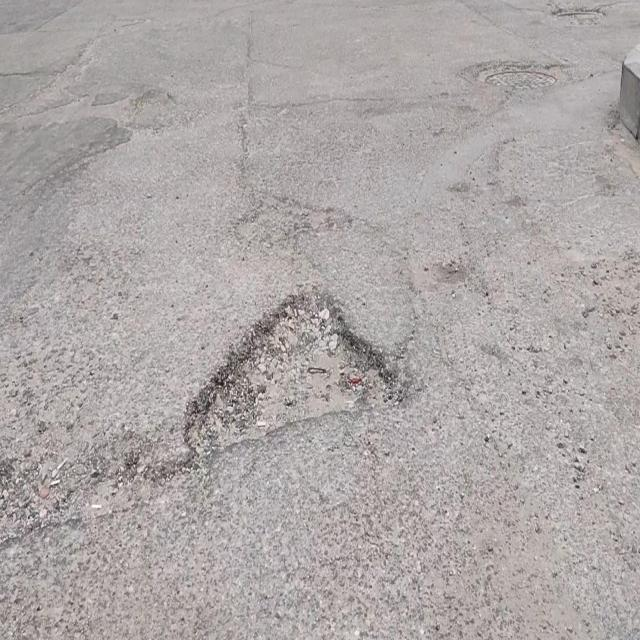Potholes: (183, 283, 404, 464)
